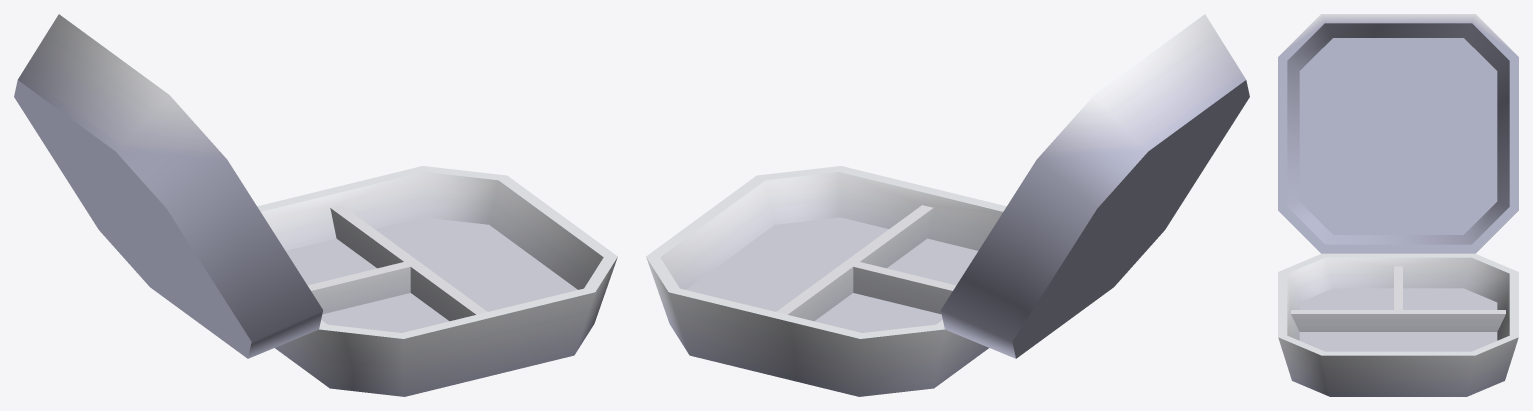
The model's file is kenney-food-styrofoam.glb.
The picture shows the model from 3 angles, left to right: view 1: azimuth 30°, elevation 25°; view 2: azimuth 150°, elevation 25°; view 3: azimuth 270°, elevation 25°; orthographic projection. The views are drawn at different scales.
Parts seen in each view (by area): view 1: styrofoam; view 2: styrofoam; view 3: styrofoam.
Part boxes in pixels (<box>): styrofoam: <box>14,14,617,396</box>; styrofoam: <box>646,14,1249,396</box>; styrofoam: <box>1278,14,1518,396</box>.
Size of the model in its own units: 1.26 by 0.822 by 0.759.
1 material, 1 textured.
